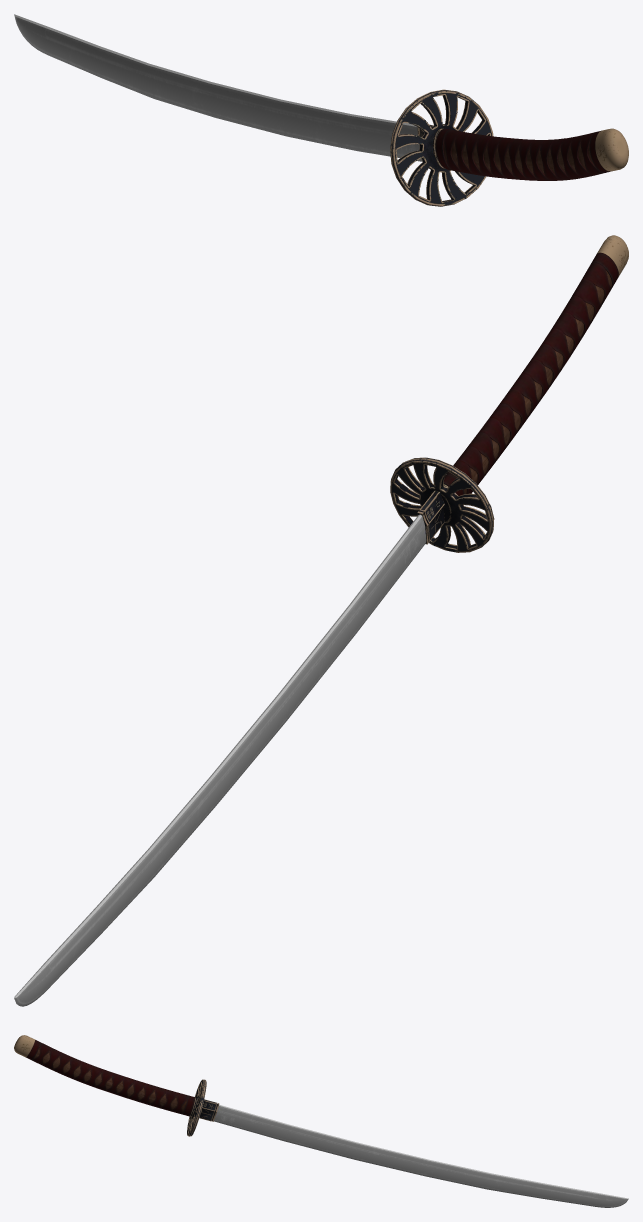
Rendered from katana.glb.
The picture shows the model from 3 angles, top to bottom: view 1: azimuth 30°, elevation 25°; view 2: azimuth 150°, elevation 25°; view 3: azimuth 270°, elevation 25°; orthographic projection. The views are drawn at different scales.
Parts seen in each view (by area): view 1: antique_katana_01; view 2: antique_katana_01; view 3: antique_katana_01.
Boxes of the visible parts, x1,y1,x2,y2 form: antique_katana_01: [14, 14, 628, 206]; antique_katana_01: [14, 235, 628, 1006]; antique_katana_01: [14, 1035, 628, 1207].
Bounding box in the file's own units: 0.0934 × 0.2995 × 0.9684.
Materials: 1 (1 with a texture image).
